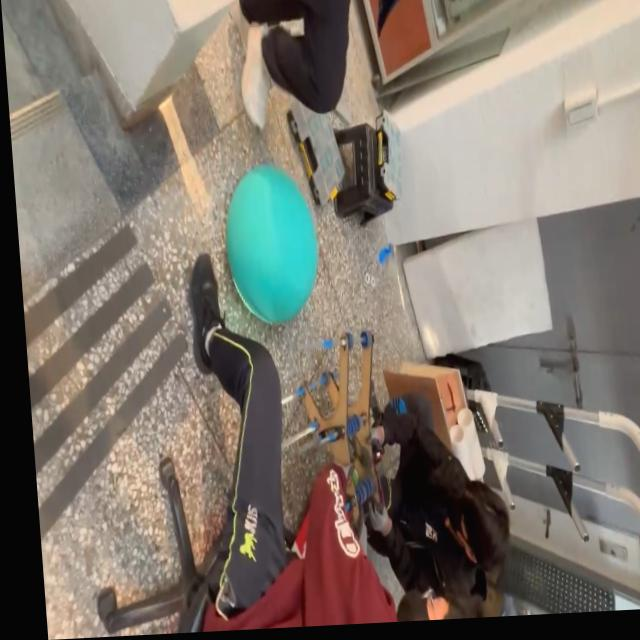ALGAE: (218, 159, 324, 328)
